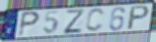5: (43, 11, 62, 36)
6: (108, 6, 126, 32)
C: (84, 7, 106, 33)
P: (17, 10, 42, 38), (126, 5, 151, 32)
Z: (63, 8, 85, 35)
